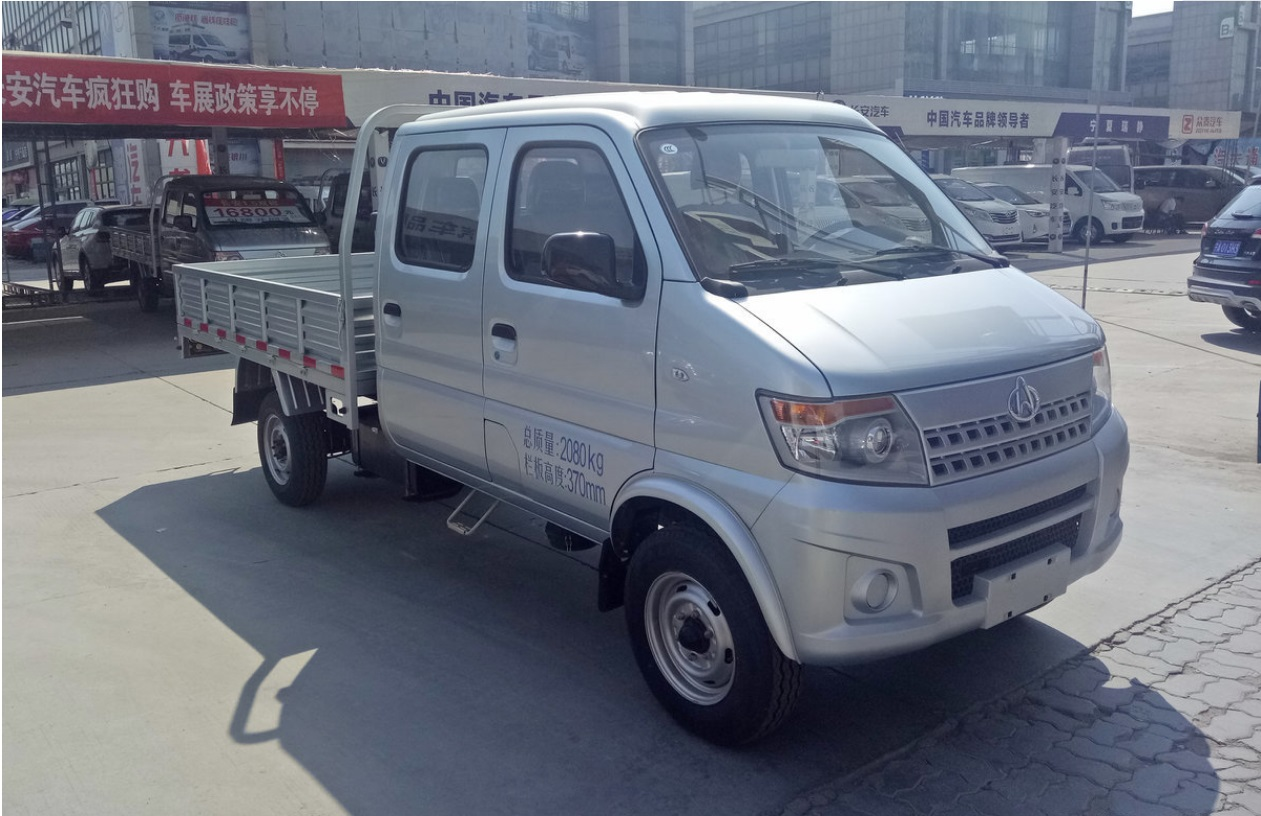truck: (170, 80, 1130, 755)
